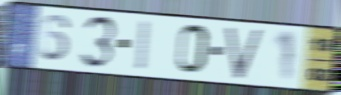0: (175, 23, 210, 77)
1: (272, 29, 295, 85)
3: (76, 14, 120, 70)
6: (39, 13, 73, 64)
I: (135, 18, 152, 73)
V: (225, 27, 265, 81)
